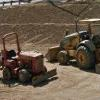Tractor: (6, 21, 100, 82)
